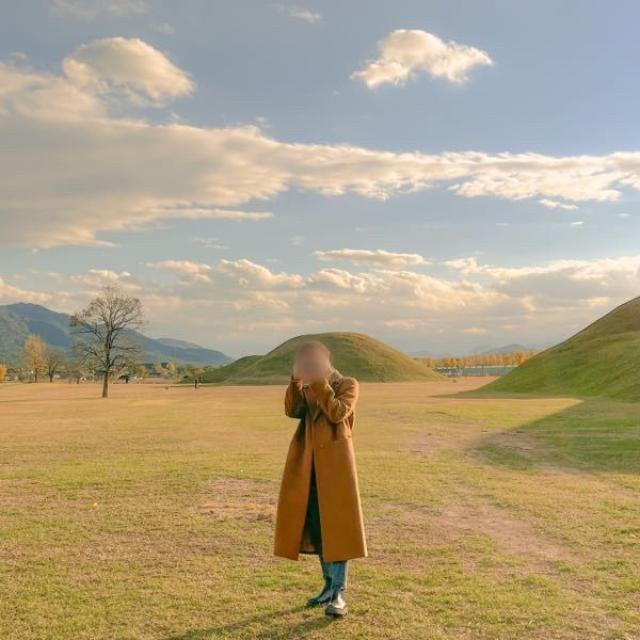coat: (272, 369, 366, 562)
denimpants: (308, 459, 346, 591)
